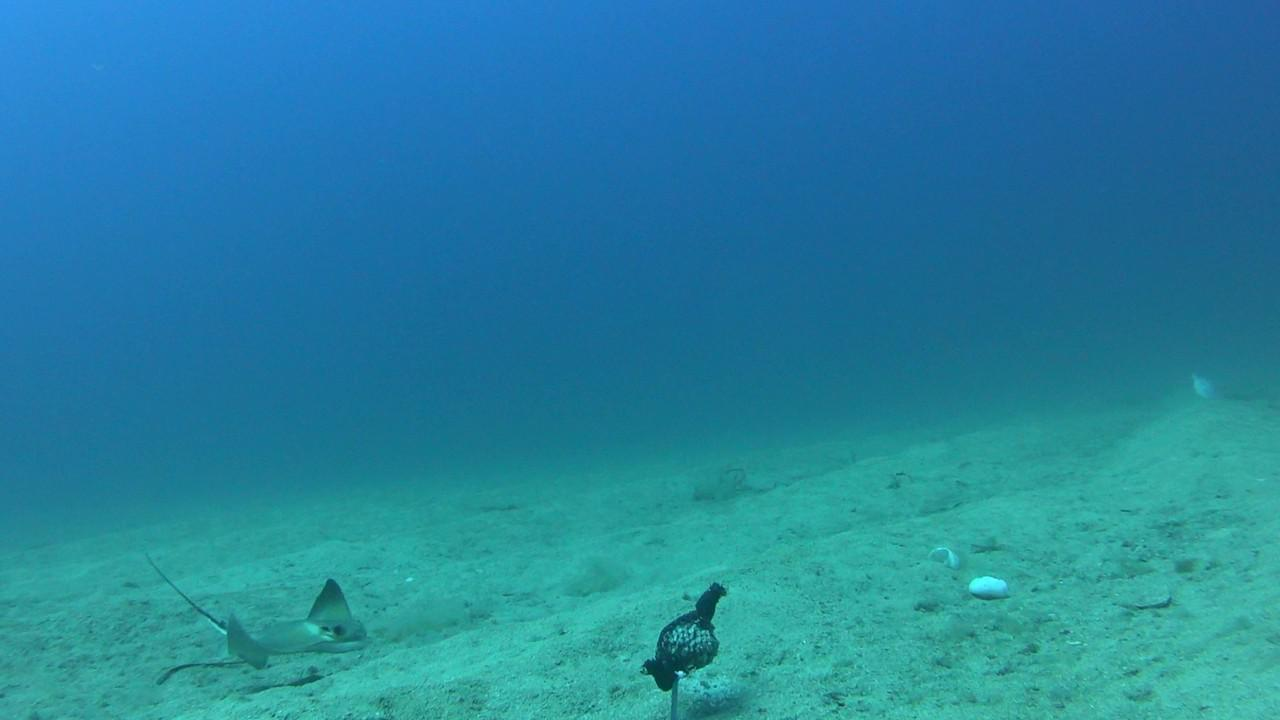myliobatis: (121, 534, 376, 668)
